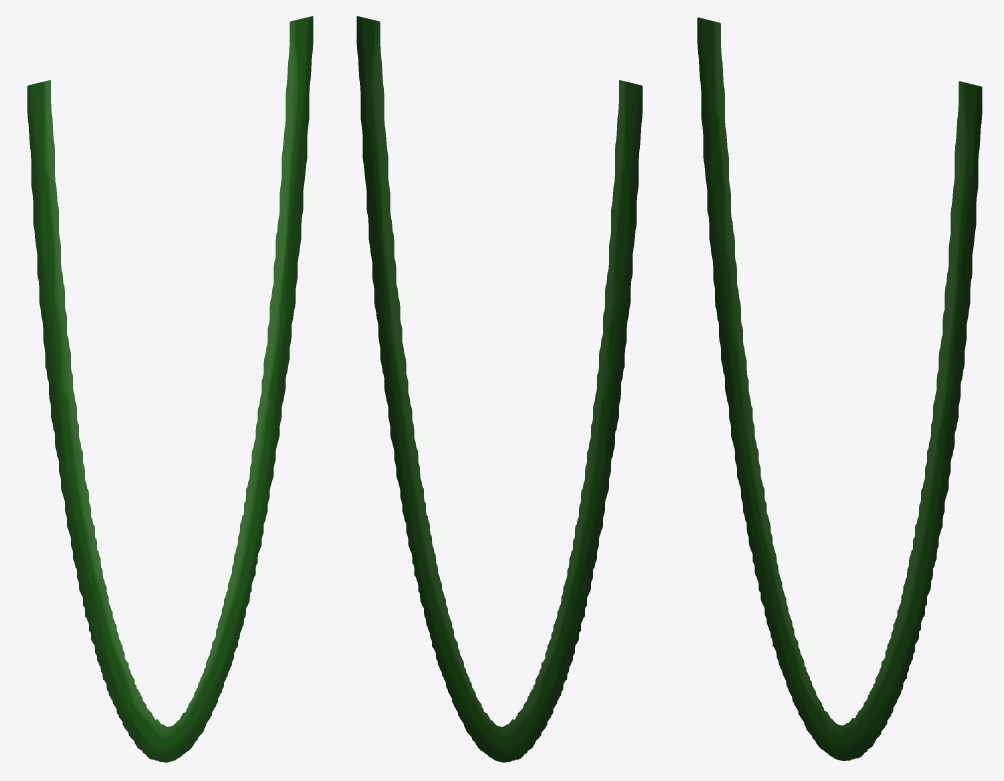
File: Vine_2.fbx
The picture shows the model from 3 angles, left to right: view 1: azimuth 30°, elevation 25°; view 2: azimuth 150°, elevation 25°; view 3: azimuth 330°, elevation 25°; orthographic projection.
Visible parts, largest first — view 1: polySurface15; view 2: polySurface15; view 3: polySurface15.
Boxes of the visible parts, x1,y1,x2,y2 form: polySurface15: [27, 16, 313, 762]; polySurface15: [356, 16, 642, 762]; polySurface15: [697, 17, 982, 760].
Bounding box in the file's own units: 151 × 337 × 0.
